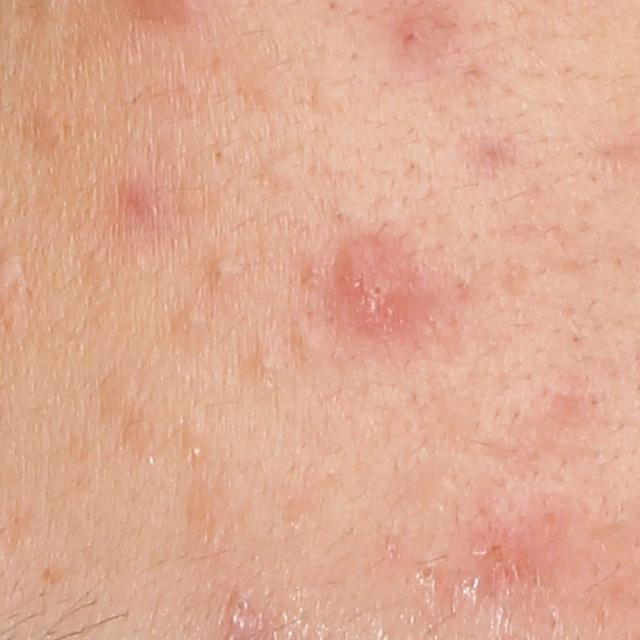comedo: (209, 259, 245, 283), (179, 308, 206, 325), (258, 350, 280, 370), (188, 444, 205, 463)
papule: (340, 238, 413, 331), (475, 529, 522, 580)
